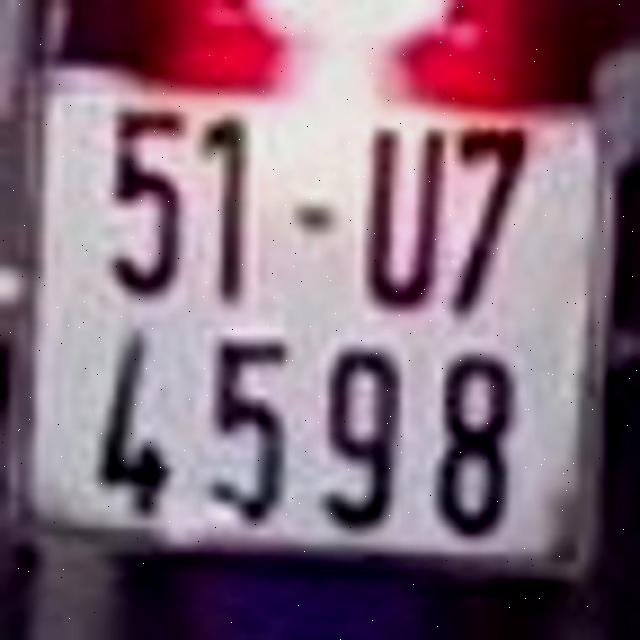1: (197, 107, 254, 303)
4: (96, 326, 172, 519)
5: (207, 328, 290, 526), (107, 101, 188, 297)
7: (449, 121, 530, 318)
8: (434, 348, 515, 539)
9: (321, 342, 400, 531)
U: (363, 123, 445, 311)
